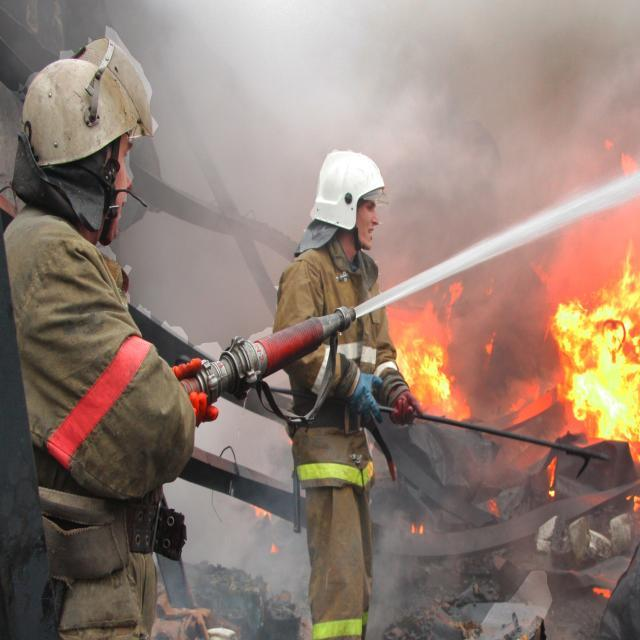Fire: (554, 254, 640, 444), (396, 324, 451, 412)
Smoke: (218, 0, 640, 425)
